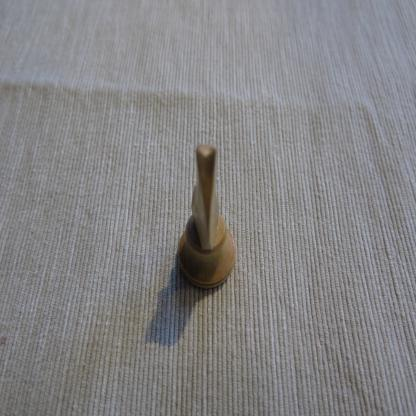white-knight: (177, 144, 236, 291)
